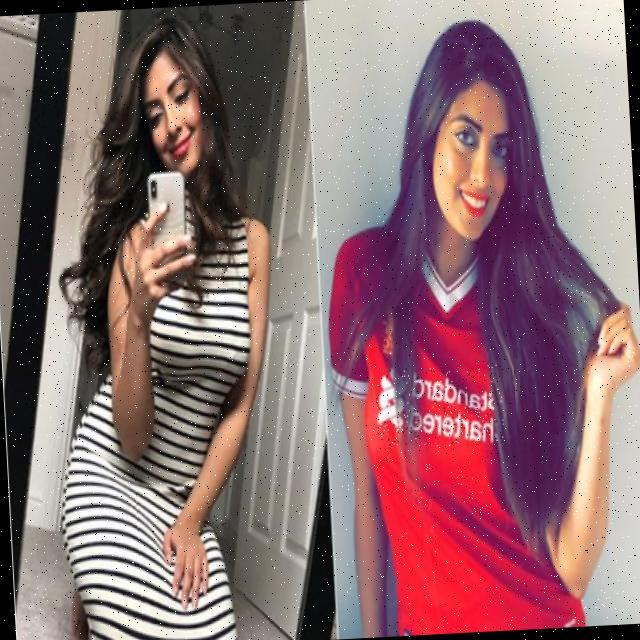Standard Chartered: (374, 364, 504, 449)
